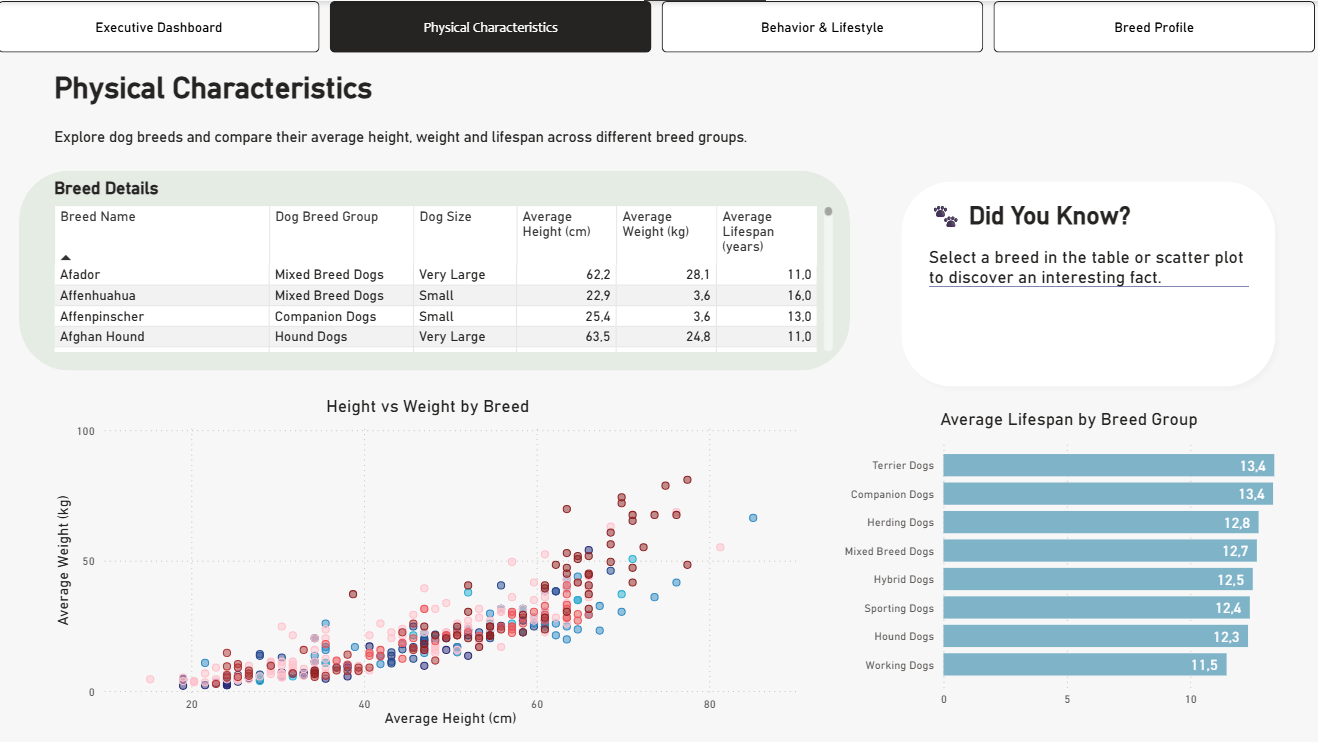

What the dashboard file says about the page in this screenshot:
{"tool":"powerbi","page":{"name":"Physical Characteristics","canvas":[1280,720],"ordinal":1},"visuals":[{"type":"shape","box":[867.2,165.5,381,217.2],"z":0},{"type":"shape","box":[21,165.2,806.4,194.3],"z":1000},{"type":"scatterChart","title":"Height vs Weight by Breed","fields":{"X":["Metriky.Average Height (cm)"],"Y":["Metriky.Average Weight (kg)"],"Category":["Dogs.Breed Name"],"Series":["Breed Groups.Dog Breed Group"]},"box":[50.2,382.1,735.1,325.5],"z":2000},{"type":"clusteredBarChart","title":"Average Lifespan by Breed Group","fields":{"Category":["Breed Groups.Dog Breed Group"],"Y":["Metriky.Average Lifespan (years)"]},"box":[815.5,396.6,448.3,294.8],"z":3000},{"type":"tableEx","title":"Breed Details","fields":{"Values":["Dogs.Breed Name","Breed Groups.Dog Breed Group","Dog Sizes.Dog Size","Metriky.Average Height (cm)","Metriky.Average Weight (kg)","Metriky.Average Lifespan (years)"]},"box":[50.2,171.6,765.9,173.3],"z":4000},{"type":"pageNavigator","box":[0,0,1280.8,50.2],"z":5000},{"type":"textbox","box":[50.2,63.1,555.4,79.3],"z":6000},{"type":"textbox","box":[50.2,118.2,1135.1,47],"z":7000},{"type":"textbox","box":[898.3,184.5,320.7,160.3],"z":8000}]}

Visuals, with their boxes in screenshot pixels (x1, y1, x2, y2), scaled from the page's 1280x720 canvas onto the 1318x742 screenshot:
shape: 893:171:1285:394
shape: 22:170:852:370
"Height vs Weight by Breed" scatterChart: 52:394:809:729
"Average Lifespan by Breed Group" clusteredBarChart: 840:409:1301:713
"Breed Details" tableEx: 52:177:840:355
pageNavigator: 0:0:1317:52
textbox: 52:65:624:147
textbox: 52:122:1220:170
textbox: 925:190:1255:355
